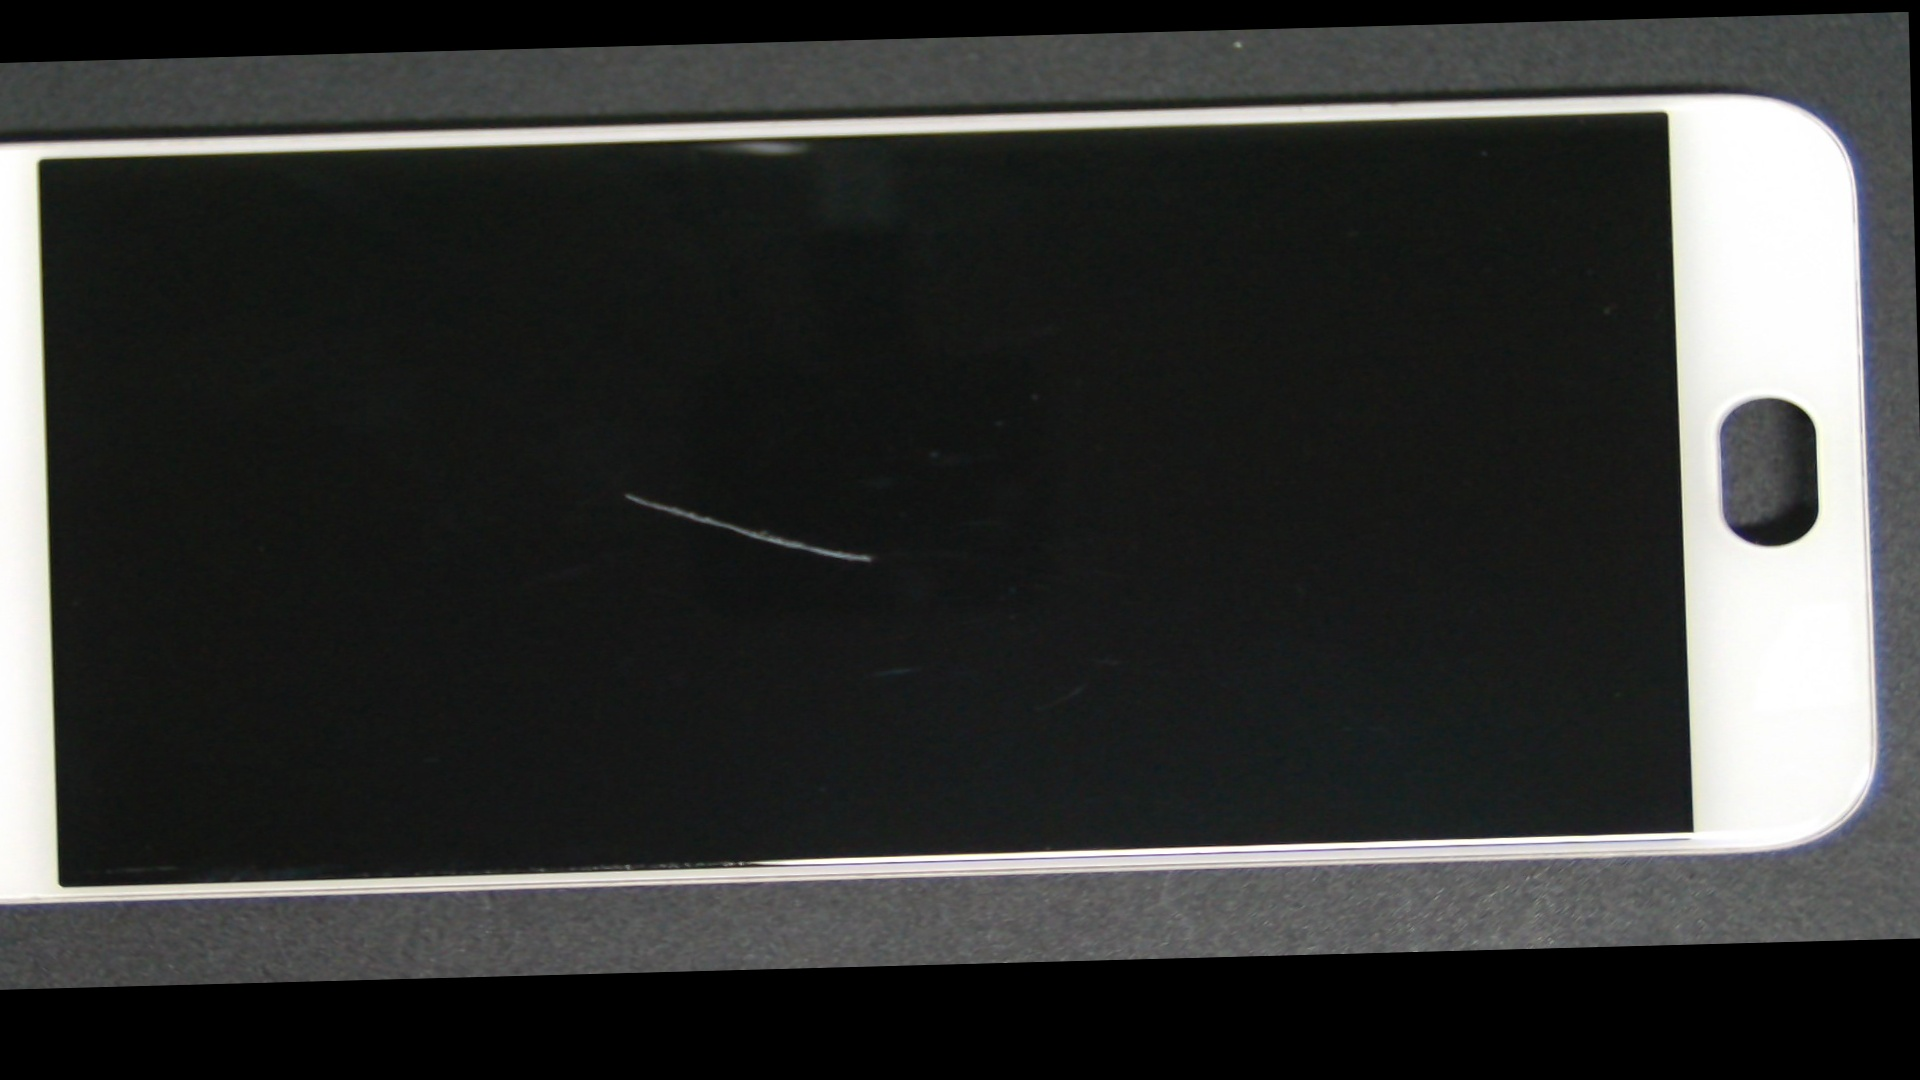oil: (224, 258, 1036, 728)
